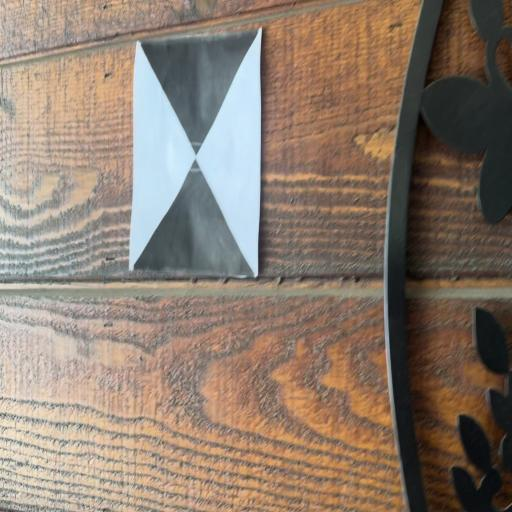target: (135, 42, 259, 274)
